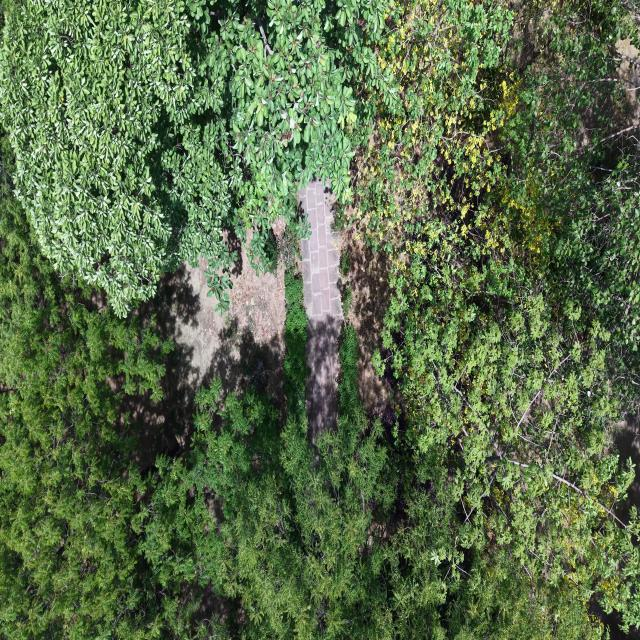DRY_AREA: (120, 244, 284, 468), (121, 248, 285, 470), (121, 248, 285, 468), (123, 248, 285, 469), (122, 249, 284, 469), (123, 247, 285, 466), (299, 181, 397, 438), (175, 247, 285, 391), (176, 249, 284, 395), (340, 208, 403, 437), (341, 225, 395, 422), (299, 181, 342, 320), (306, 315, 341, 444), (614, 38, 639, 136), (616, 38, 639, 130), (615, 411, 639, 468)
PATHWAYS: (299, 180, 342, 443)
VEGETATION_TREE: (0, 0, 639, 639), (356, 2, 639, 636), (0, 199, 393, 639), (0, 0, 395, 315), (146, 276, 397, 639), (0, 193, 171, 639)
